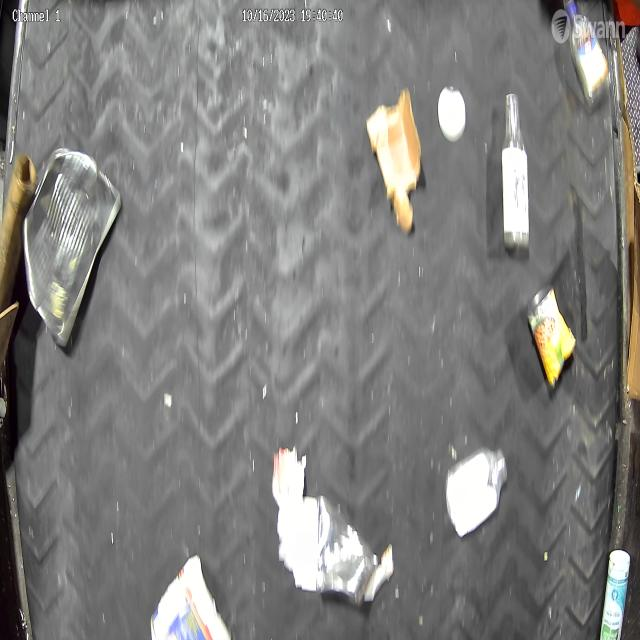can: (21, 143, 124, 351), (315, 491, 378, 609), (527, 281, 576, 390)
plastic_bottle: (502, 93, 530, 252)
